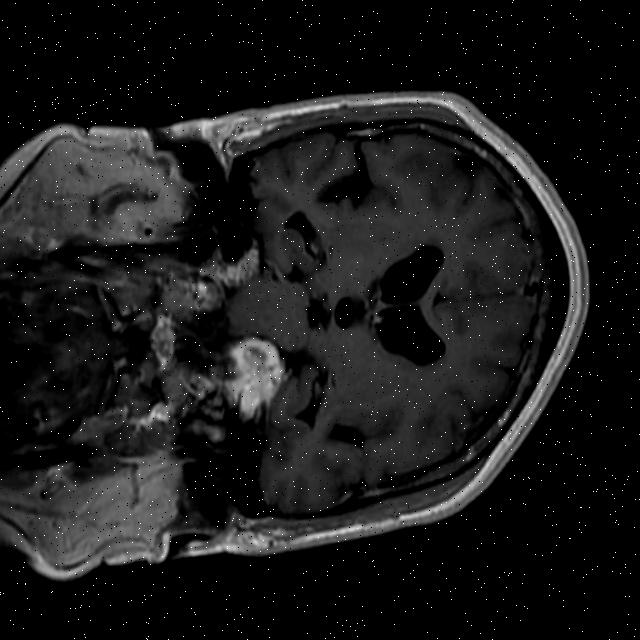Meningioma: (210, 327, 297, 429)
